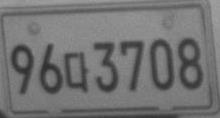0: (148, 38, 174, 90)
3: (92, 41, 118, 92)
6: (38, 43, 63, 93)
7: (119, 39, 144, 91)
8: (177, 37, 204, 89)
9: (9, 43, 34, 94)
다: (63, 50, 90, 93)
